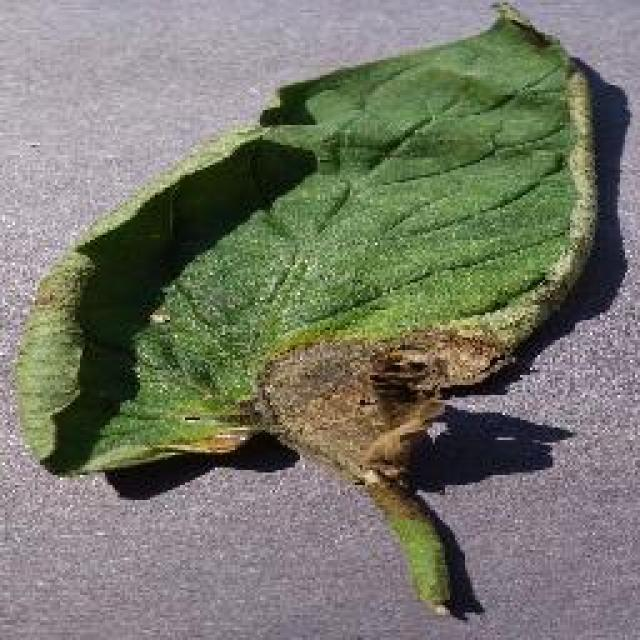Tomato late blight leaf: (15, 3, 600, 480)
